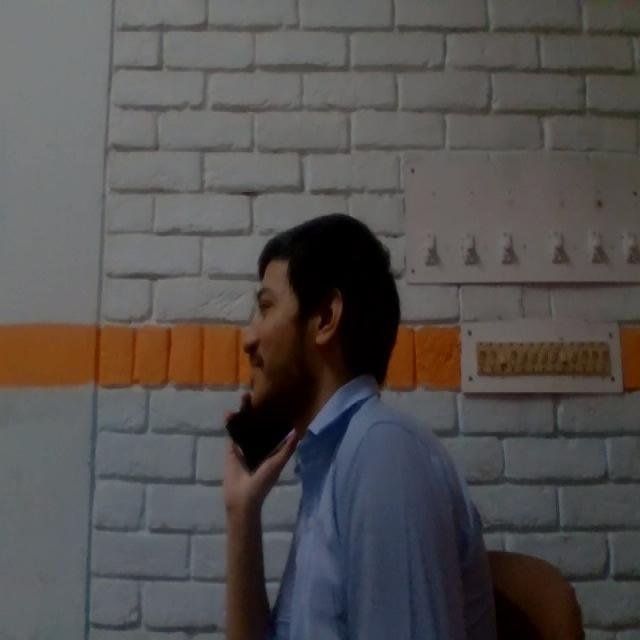oncall: (192, 206, 507, 640)
phone: (228, 384, 307, 468)
